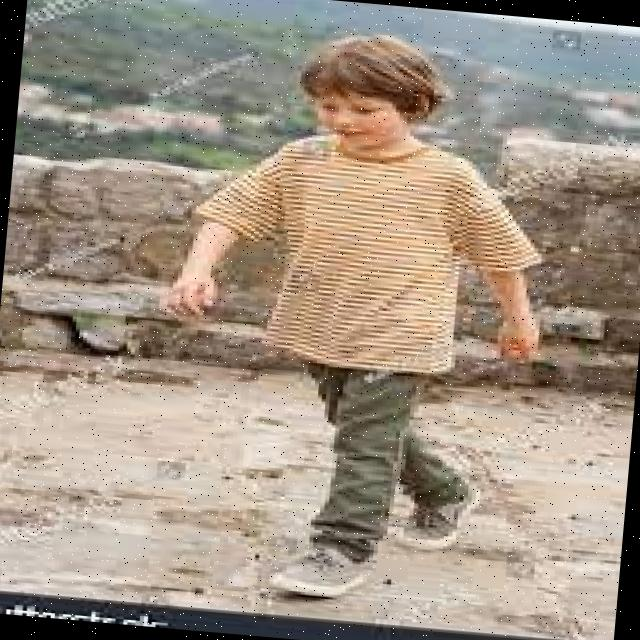Person: (132, 21, 566, 612)
